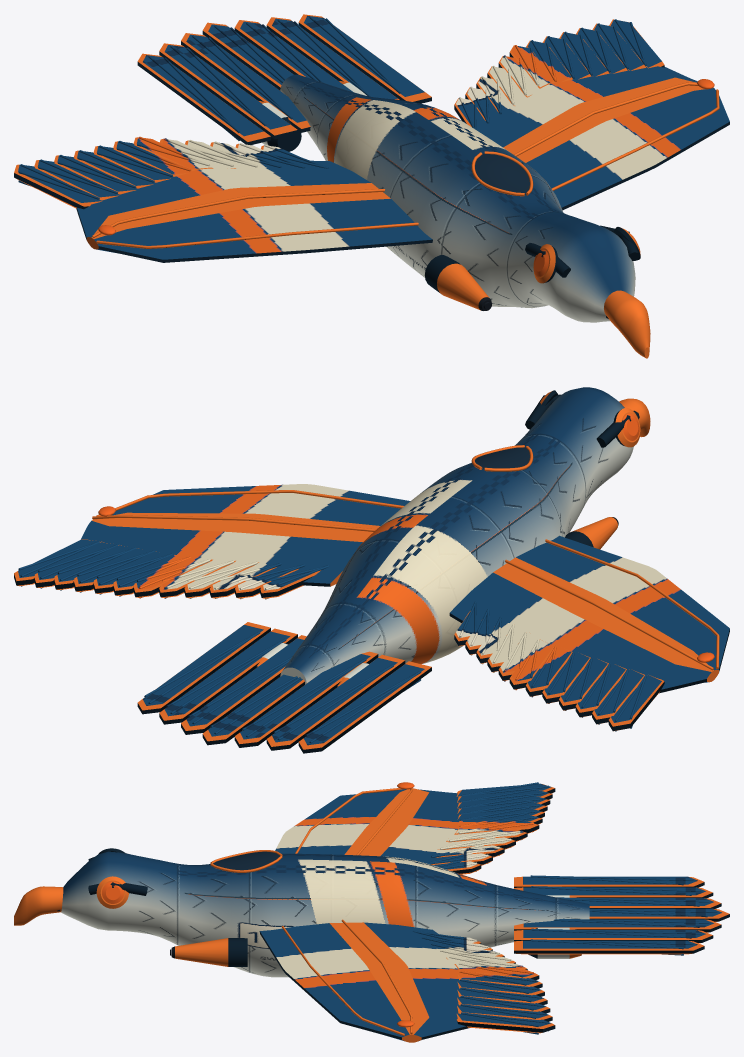
3 views of the same model, one above another, from view 1: azimuth 30°, elevation 25°; view 2: azimuth 150°, elevation 25°; view 3: azimuth 270°, elevation 25° (orthographic). The views are drawn at different scales.
Visible parts, largest first — view 1: shrike_hull; view 2: shrike_hull; view 3: shrike_hull.
Part boxes in pixels (x1,y1,x2,y2): shrike_hull: (14,14,729,358); shrike_hull: (14,387,729,753); shrike_hull: (14,782,729,1042).
Bounding box in the file's own units: 13.49 × 2.96 × 16.5.
1 material, 1 textured.
